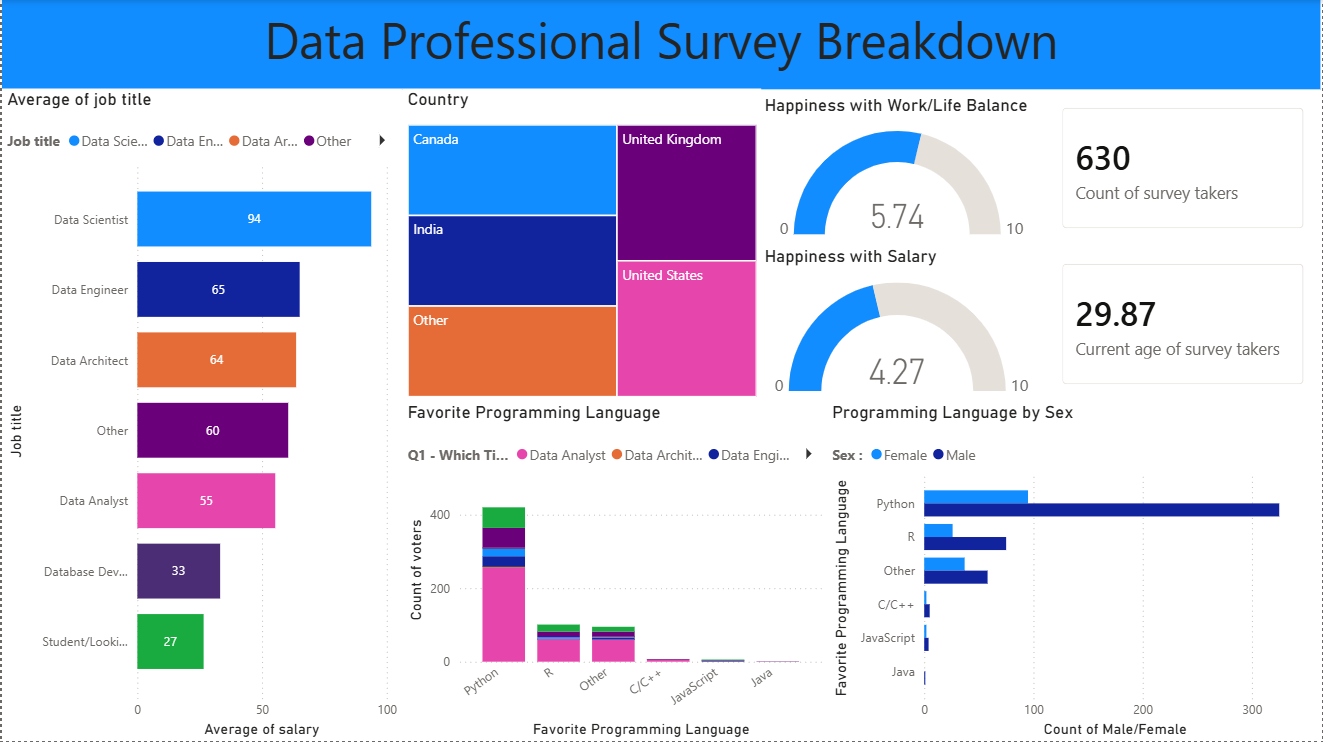

Layout of this report page (visuals, bound fields, positions):
{"tool":"powerbi","page":{"name":"Page 1","canvas":[1280,720],"ordinal":0},"visuals":[{"type":"textbox","box":[0,0,1279.4,86.9],"z":0},{"type":"cardVisual","fields":{"Data":["Count(Data Professional Survey.Unique ID)"]},"box":[1011,86.9,268.3,151.2],"z":1000},{"type":"cardVisual","fields":{"Data":["Avg(Data Professional Survey.Q10 - Current Age)"]},"box":[1011,238.1,268.3,151.2],"z":2000},{"type":"barChart","title":"Average of job title","fields":{"Category":["Data Professional Survey.Q1 - Which Title Best Fits your Current Role?.1"],"Y":["Avg(Data Professional Survey.Average salary)"],"Series":["Data Professional Survey.Q1 - Which Title Best Fits your Current Role?.1"]},"box":[0,86,388,634],"z":3000},{"type":"columnChart","title":"Favorite Programming Language","fields":{"Category":["Data Professional Survey.Q5 - Favorite Programming Language.1"],"Y":["CountNonNull(Data Professional Survey.Unique ID)"],"Series":["Data Professional Survey.Q1 - Which Title Best Fits your Current Role?.1"]},"box":[388,390,412,330],"z":4000},{"type":"treemap","title":"Country","fields":{"Group":["Data Professional Survey.Q11 - Which Country do you live in?.1"],"Values":["Count(Data Professional Survey.Q11 - Which Country do you live in?.1)"]},"box":[388,86,348,304],"z":5000},{"type":"gauge","title":"Happiness with Work/Life Balance","fields":{"Y":["Avg(Data Professional Survey.Q6 - How Happy are you in your Current Position with the following? (Work/Life Balance))"],"MinValue":["Min(Data Professional Survey.Q6 - How Happy are you in your Current Position with the following? (Work/Life Balance))1"],"MaxValue":["Max(Data Professional Survey.Q6 - How Happy are you in your Current Position with the following? (Work/Life Balance))2"]},"box":[735.1,92.3,275.3,145.7],"z":6000},{"type":"gauge","title":"Happiness with Salary","fields":{"Y":["Avg(Data Professional Survey.Q6 - How Happy are you in your Current Position with the following? (Salary))"],"MinValue":["Min(Data Professional Survey.Q6 - How Happy are you in your Current Position with the following? (Salary))"],"MaxValue":["Max(Data Professional Survey.Q6 - How Happy are you in your Current Position with the following? (Salary))"]},"box":[735.1,238,275.3,150.6],"z":7000},{"type":"clusteredBarChart","title":"Programming Language by Sex","fields":{"Category":["Data Professional Survey.Q5 - Favorite Programming Language.1"],"Series":["Data Professional Survey.Q9 - Male/Female?"],"Y":["CountNonNull(Data Professional Survey.Q9 - Male/Female?)"]},"box":[800,390,480,330],"z":8000}]}

Visuals, with their boxes in screenshot pixels (x1, y1, x2, y2), scaled from the page's 1280x720 canvas onto the 1323x742 screenshot:
textbox: {"left": 0, "top": 0, "right": 1322, "bottom": 90}
cardVisual - Count(Data Professional Survey.Unique ID): {"left": 1045, "top": 90, "right": 1322, "bottom": 245}
cardVisual - Avg(Data Professional Survey.Q10 - Current Age): {"left": 1045, "top": 245, "right": 1322, "bottom": 401}
"Average of job title" barChart: {"left": 0, "top": 89, "right": 401, "bottom": 741}
"Favorite Programming Language" columnChart: {"left": 401, "top": 402, "right": 827, "bottom": 741}
"Country" treemap: {"left": 401, "top": 89, "right": 761, "bottom": 402}
"Happiness with Work/Life Balance" gauge: {"left": 760, "top": 95, "right": 1044, "bottom": 245}
"Happiness with Salary" gauge: {"left": 760, "top": 245, "right": 1044, "bottom": 400}
"Programming Language by Sex" clusteredBarChart: {"left": 827, "top": 402, "right": 1322, "bottom": 741}
